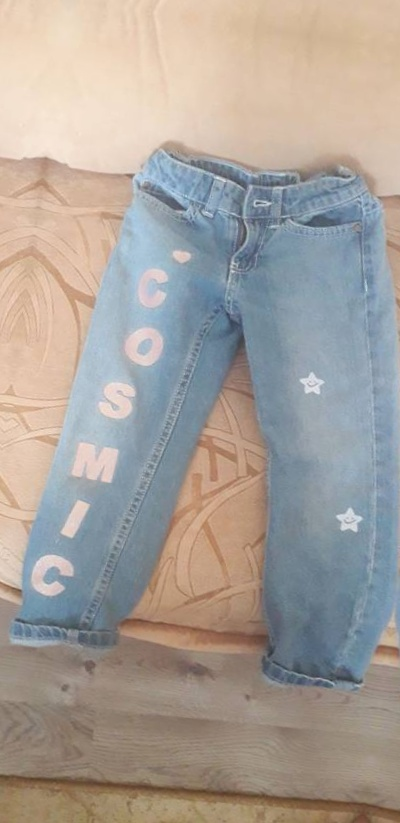Pants: (10, 119, 400, 725), (0, 53, 11, 659), (394, 177, 400, 784)
